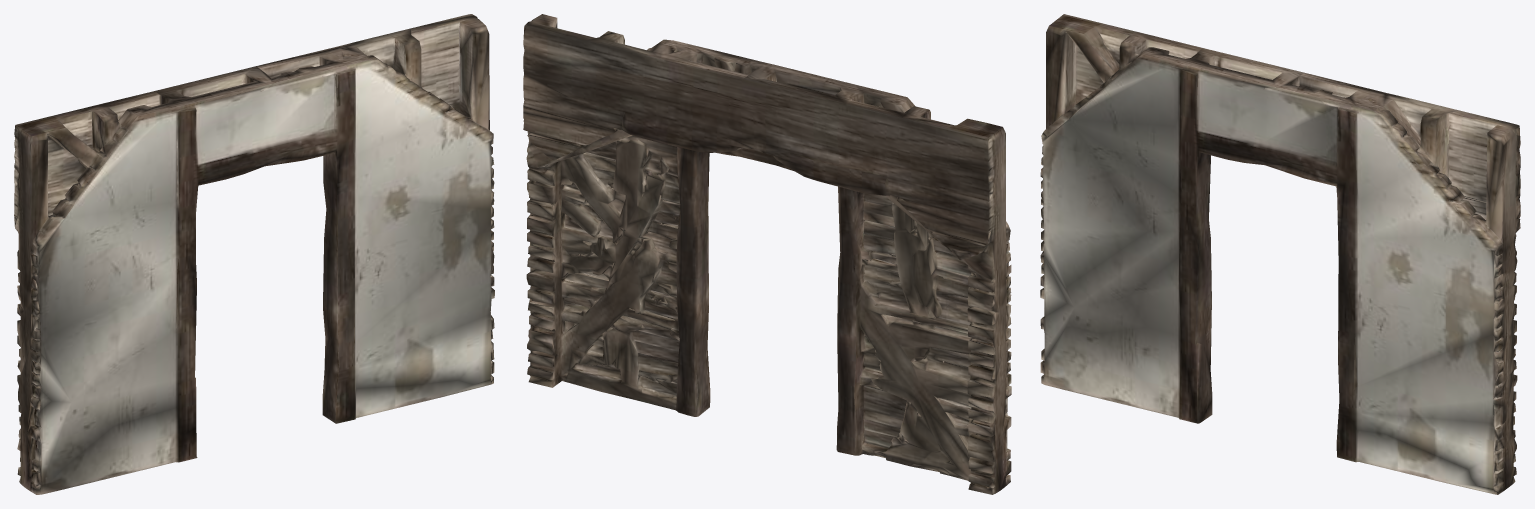
Rendered from int-partition-plaster-a.glb.
3 views of the same model, side by side, from view 1: azimuth 30°, elevation 25°; view 2: azimuth 150°, elevation 25°; view 3: azimuth 330°, elevation 25° (orthographic).
Visible parts, largest first — view 1: Mesh_0; view 2: Mesh_0; view 3: Mesh_0.
Part boxes in pixels (box(x1,y1,x2,y2)): Mesh_0: box(14, 14, 494, 494); Mesh_0: box(523, 14, 1011, 494); Mesh_0: box(1040, 14, 1520, 494).
Bounding box in the file's own units: 1.9 × 1.4 × 0.1856.
1 material, 1 textured.
